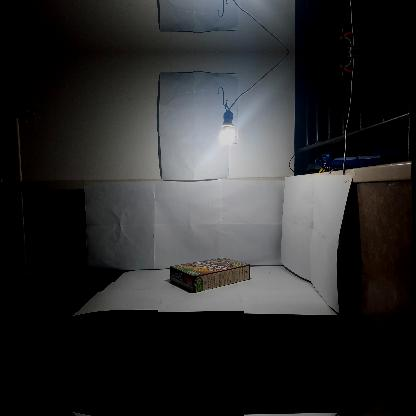Koko-Krunch: (169, 258, 249, 292)
